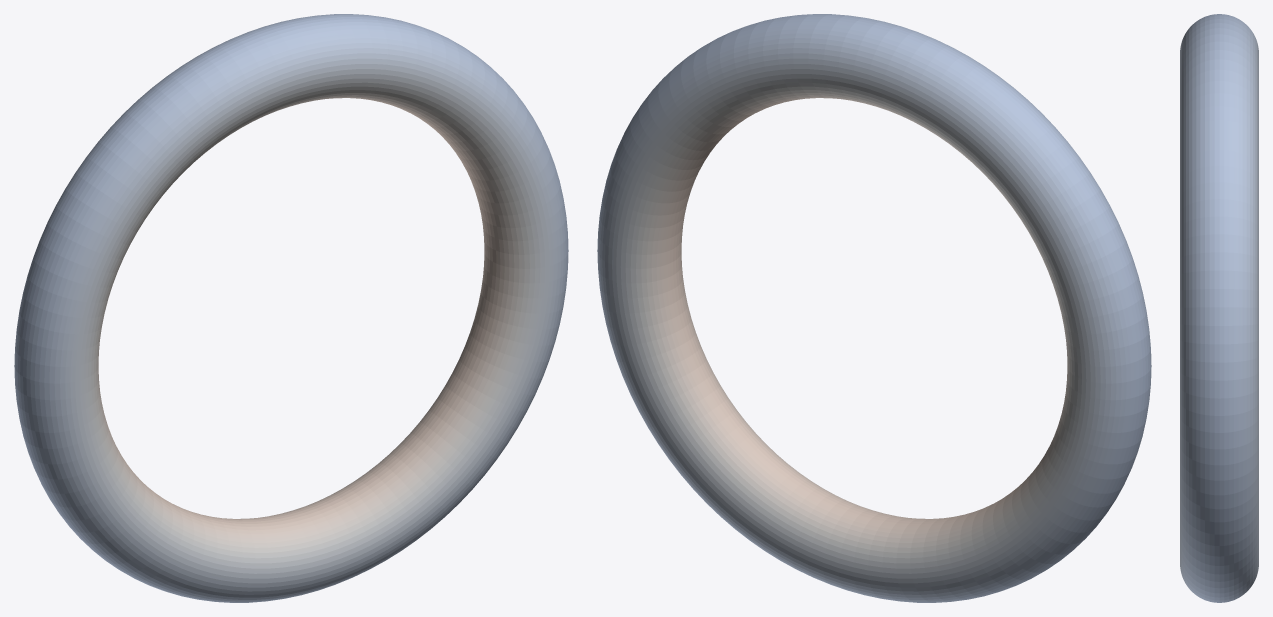
3 views of the same model, side by side, from view 1: azimuth 30°, elevation 25°; view 2: azimuth 150°, elevation 25°; view 3: azimuth 270°, elevation 25° (orthographic). The views are drawn at different scales.
Visible parts, largest first — view 1: world; view 2: world; view 3: world.
Part boxes in pixels (x1,y1,x2,y2): world: (14,14,568,602); world: (597,14,1151,602); world: (1180,14,1258,602).
Bounding box in the file's own units: 30.8 × 30.8 × 4.13.
